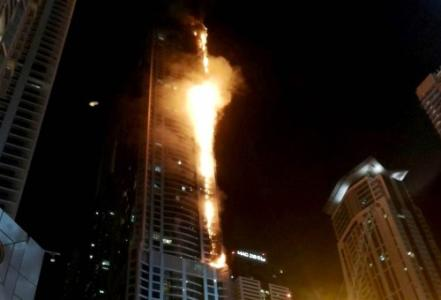fire: (182, 83, 223, 184)
